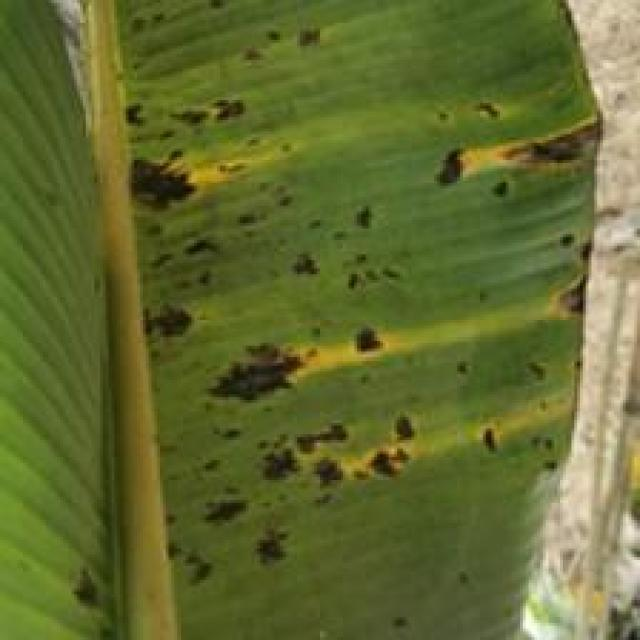Downey_mildrew: (108, 0, 615, 640)
